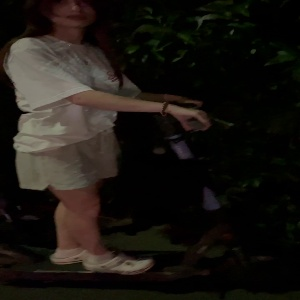human on a scooter: (1, 1, 296, 293)
